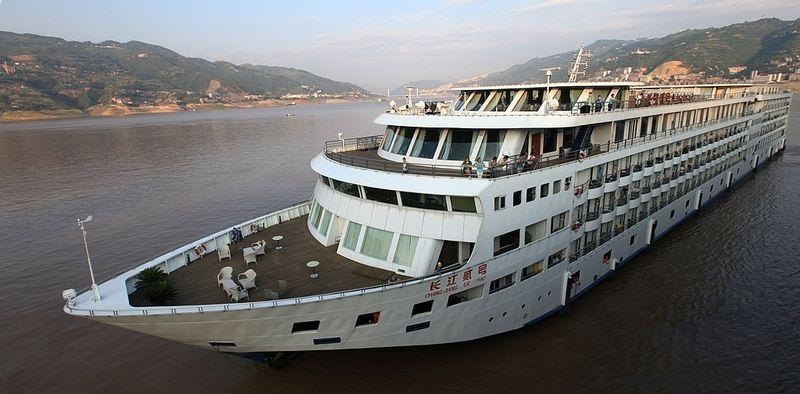youlun: (63, 68, 792, 356)
